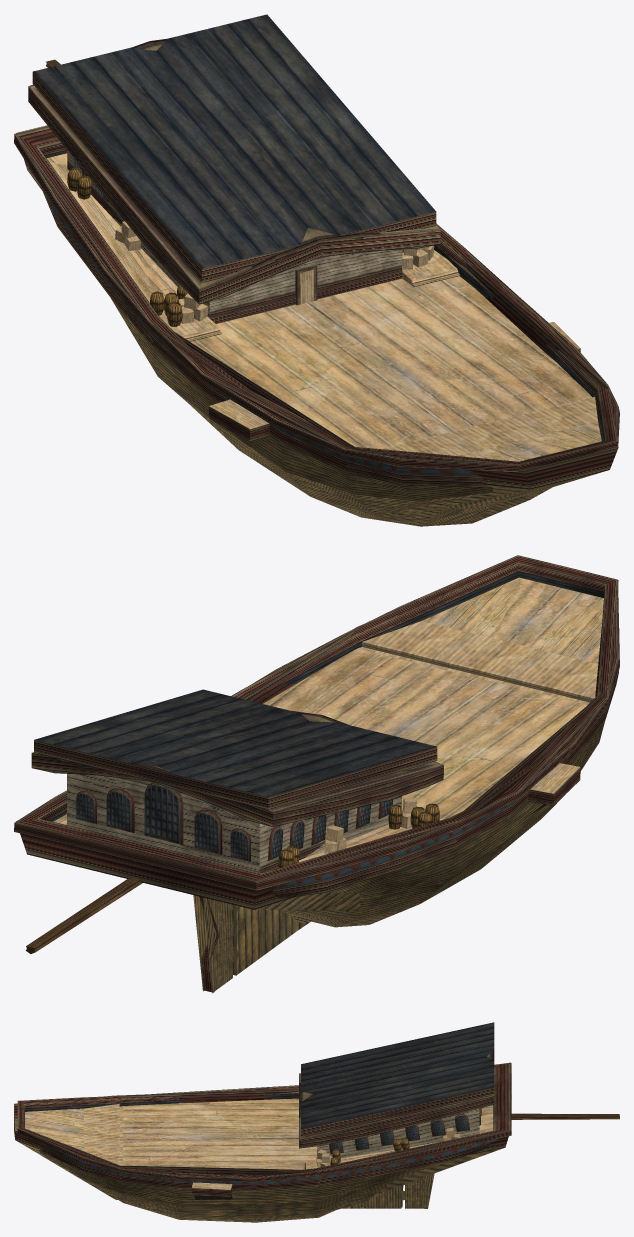
The model's file is pir_m_shp_slp_war.fbx.
The picture shows the model from 3 angles, top to bottom: view 1: azimuth 30°, elevation 25°; view 2: azimuth 150°, elevation 25°; view 3: azimuth 270°, elevation 25°; orthographic projection. The views are drawn at different scales.
Visible parts, largest first — view 1: hullB.003, deck1, railing, polySurface18, deck_right, stripeA.003, polySurface19, railing_right, stripeB.002, deck.002, cabin_roof_trim, stripeB.003 (+11 smaller); view 2: deck1, hullB.003, railing, deck_right, stripeA.003, deck.002, stripeB.003, polySurface18, toptrim_left4, railing_right, polySurface19, cabin_roof_trim (+22 smaller); view 3: deck1, hullB.003, railing, polySurface18, polySurface19, stripeA.003, railing_left, deck_right, cabin_roof_trim, hullC.002, stripeA_left, stripeB.003 (+14 smaller).
Boxes of the visible parts, x1=… form: hullB.003: x1=33, y1=14, x2=435, y2=268; deck1: x1=47, y1=153, x2=591, y2=461; railing: x1=14, y1=126, x2=618, y2=472; polySurface18: x1=77, y1=253, x2=493, y2=500; deck_right: x1=159, y1=250, x2=597, y2=455; stripeA.003: x1=16, y1=125, x2=618, y2=489; polySurface19: x1=161, y1=379, x2=551, y2=526; railing_right: x1=14, y1=134, x2=517, y2=472; stripeB.002: x1=29, y1=84, x2=440, y2=304; deck.002: x1=49, y1=162, x2=601, y2=460; cabin_roof_trim: x1=28, y1=39, x2=439, y2=303; stripeB.003: x1=32, y1=72, x2=436, y2=282; deck1: x1=263, y1=578, x2=603, y2=819; hullB.003: x1=34, y1=689, x2=436, y2=796; railing: x1=14, y1=555, x2=617, y2=889; deck_right: x1=357, y1=621, x2=598, y2=824; stripeA.003: x1=16, y1=580, x2=618, y2=909; deck.002: x1=53, y1=577, x2=603, y2=862; stripeB.003: x1=34, y1=740, x2=437, y2=809; polySurface18: x1=326, y1=723, x2=604, y2=892; toptrim_left4: x1=14, y1=575, x2=605, y2=890; railing_right: x1=135, y1=583, x2=619, y2=890; polySurface19: x1=280, y1=795, x2=564, y2=927; cabin_roof_trim: x1=33, y1=711, x2=443, y2=826; deck1: x1=25, y1=1098, x2=493, y2=1169; hullB.003: x1=301, y1=1022, x2=494, y2=1129; railing: x1=17, y1=1063, x2=511, y2=1182; polySurface18: x1=38, y1=1150, x2=446, y2=1204; polySurface19: x1=85, y1=1180, x2=392, y2=1222; stripeA.003: x1=14, y1=1062, x2=510, y2=1172; railing_left: x1=17, y1=1129, x2=511, y2=1182; deck_right: x1=84, y1=1104, x2=317, y2=1169; cabin_roof_trim: x1=299, y1=1050, x2=494, y2=1148; hullC.002: x1=317, y1=1108, x2=479, y2=1158; stripeA_left: x1=39, y1=1143, x2=490, y2=1185; stripeB.003: x1=301, y1=1087, x2=494, y2=1137.
Size of the model in its own units: 8962 by 6833 by 23860.
2 materials, 2 textured.
